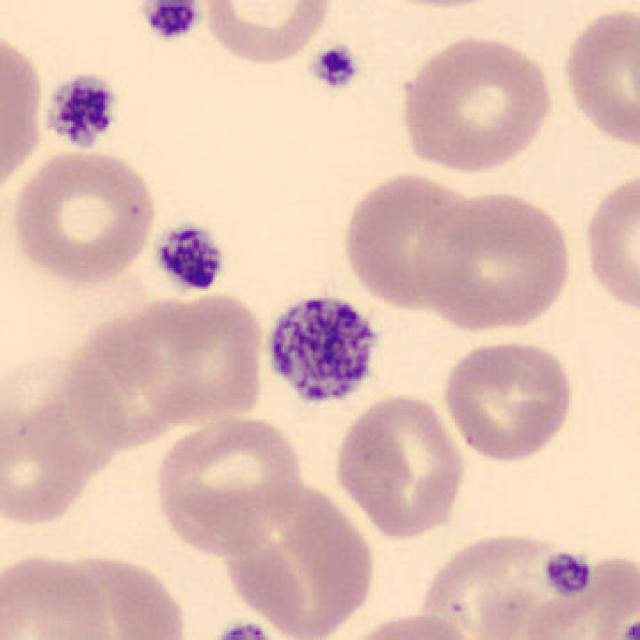Platelets: (260, 286, 386, 412), (43, 70, 121, 152), (150, 220, 230, 294), (136, 0, 204, 42), (542, 548, 596, 600), (308, 42, 362, 92), (192, 619, 293, 640), (618, 617, 640, 640)
RBC: (409, 185, 578, 333), (395, 30, 558, 176), (150, 411, 308, 555), (7, 146, 160, 288), (210, 489, 365, 629), (414, 527, 603, 640), (118, 287, 268, 427), (331, 390, 469, 541), (338, 168, 482, 312), (31, 328, 181, 458), (439, 336, 578, 464), (30, 546, 193, 640), (0, 386, 94, 531), (556, 3, 638, 154), (515, 550, 640, 640), (0, 550, 117, 640), (578, 165, 640, 322), (199, 0, 336, 67), (0, 21, 48, 203), (332, 608, 483, 640), (350, 0, 519, 12)
